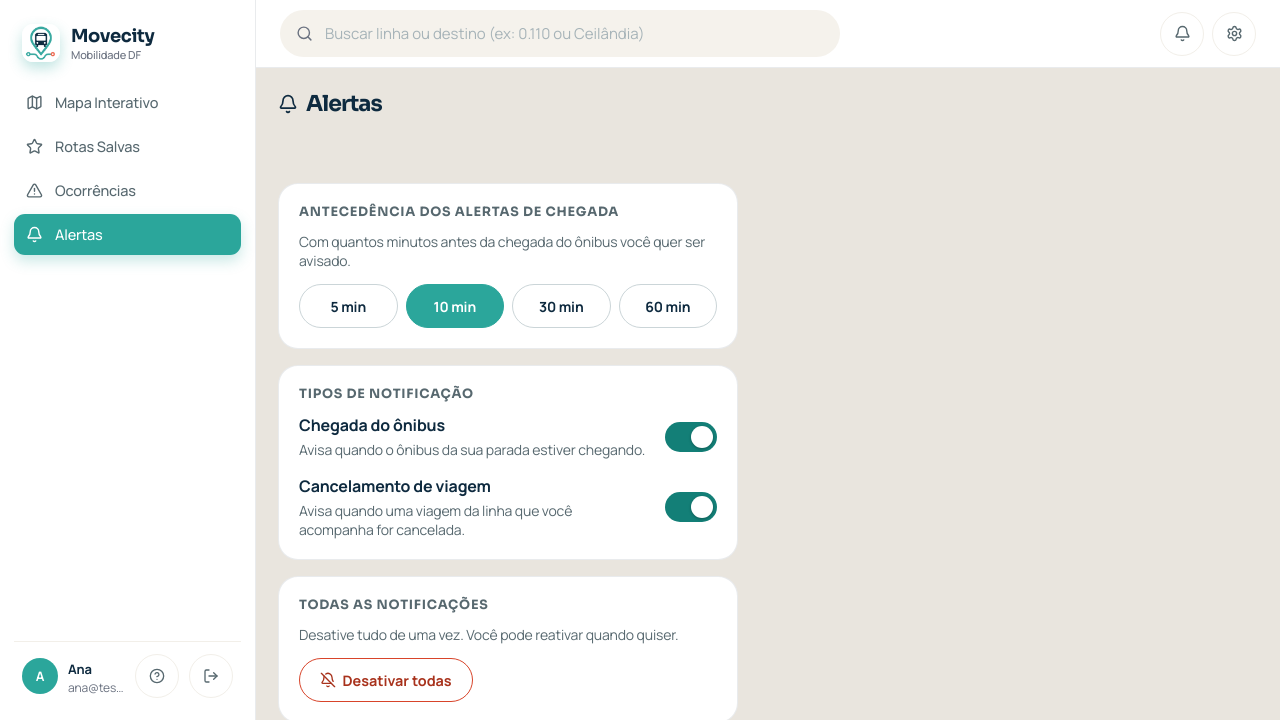
Test: Alertas (US #29) › cenário 1: escolher 30 min salva e confirma
This screenshot has width=1280, height=720.
Expected: the element showing "5 min 10 min 30 min 60 min" is shown, [299,284,717,328]
Click the radio button labelled "30 min" at coordinates (561, 306), box [512,284,610,328]
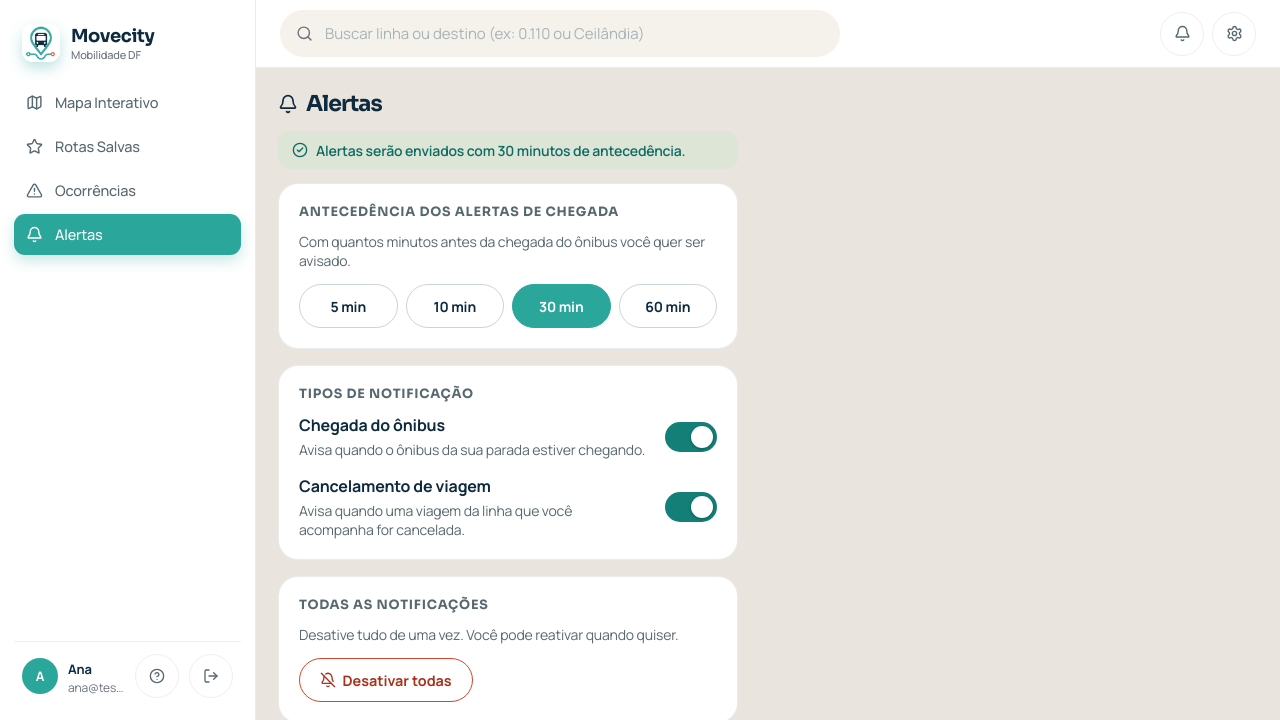
Expected: the radio button labelled "30 min" is checked, [512,284,610,328]
Expected: the text "Alertas serão enviados com 30 minutos de antecedência." is shown, [316,141,685,160]
